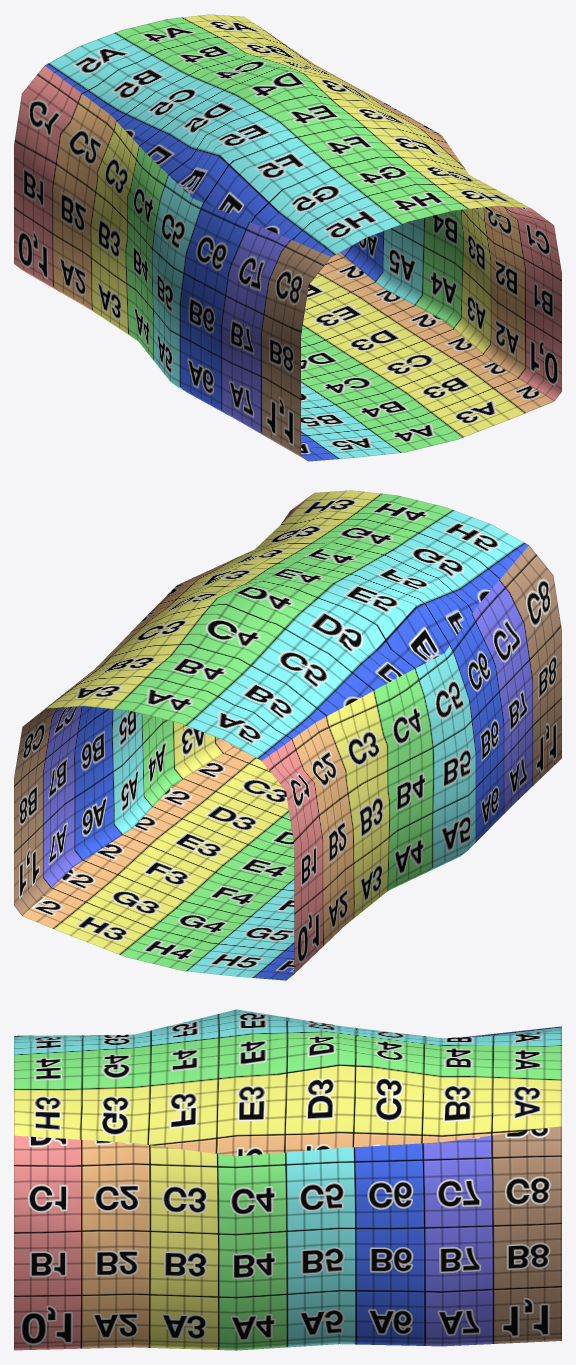
Rendered from grotte_straightVert.fbx.
The picture shows the model from 3 angles, top to bottom: view 1: azimuth 30°, elevation 25°; view 2: azimuth 150°, elevation 25°; view 3: azimuth 270°, elevation 25°; orthographic projection. The views are drawn at different scales.
Visible parts, largest first — view 1: grotte_straightVert; view 2: grotte_straightVert; view 3: grotte_straightVert.
Boxes of the visible parts, left/top/right/bottom form: grotte_straightVert: left=14, top=14, right=561, bottom=461; grotte_straightVert: left=14, top=490, right=561, bottom=980; grotte_straightVert: left=14, top=1009, right=561, bottom=1350.
Size of the model in its own units: 493 by 421 by 800.
1 material, 1 textured.
